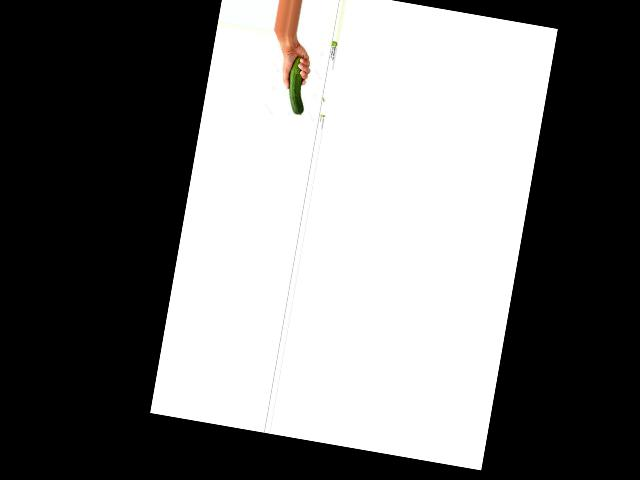cucumber: (284, 56, 312, 115)
